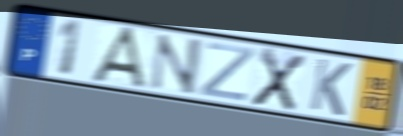1: (55, 17, 83, 78)
A: (88, 25, 152, 93)
K: (307, 56, 354, 119)
N: (147, 32, 205, 98)
X: (249, 45, 308, 114)
Z: (197, 40, 258, 104)
